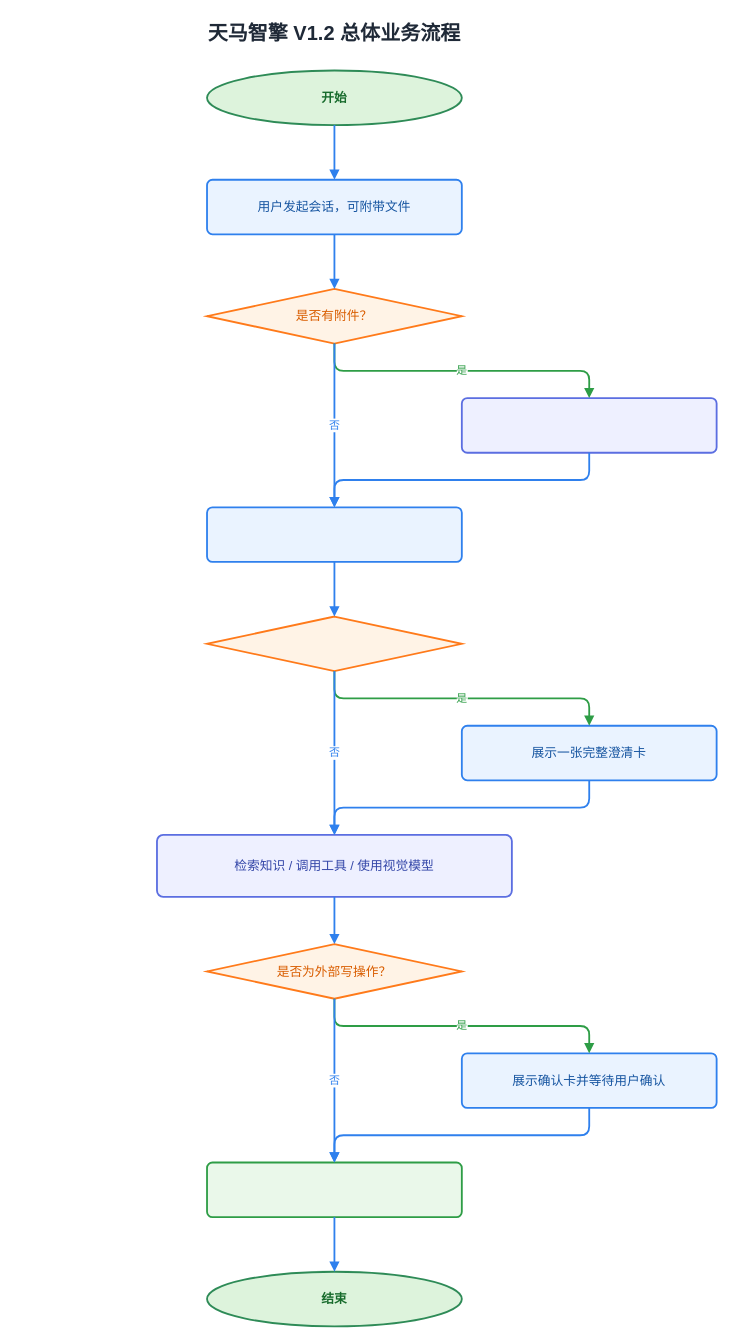
The diagram is 733 pixels wide and 1342 high, and some of its shapes have lost their labels. Here are the shapes that lost their labels. From the top down, the centre of each, then its label:
At pixel 588 425: "附件上传OSS 进入会话详情后按需处理".
At pixel 334 534: "Agent识别任务与所需能力".
At pixel 334 643: "是否缺少必要信息？".
At pixel 334 1189: "生成回答、文件或真实操作结果".
